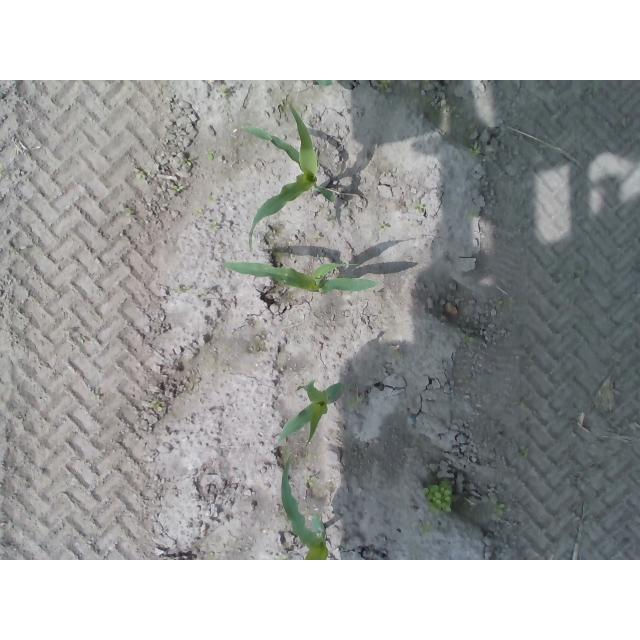Maize: (243, 101, 341, 252), (222, 257, 383, 295), (279, 457, 330, 559), (277, 379, 344, 449)
Weeds: (423, 479, 454, 514), (190, 205, 206, 219), (150, 400, 166, 413), (468, 143, 481, 158), (418, 522, 434, 534), (304, 473, 316, 488), (414, 200, 426, 213), (494, 502, 506, 515), (208, 223, 221, 234), (378, 80, 391, 90), (174, 184, 184, 193), (207, 152, 215, 161)
